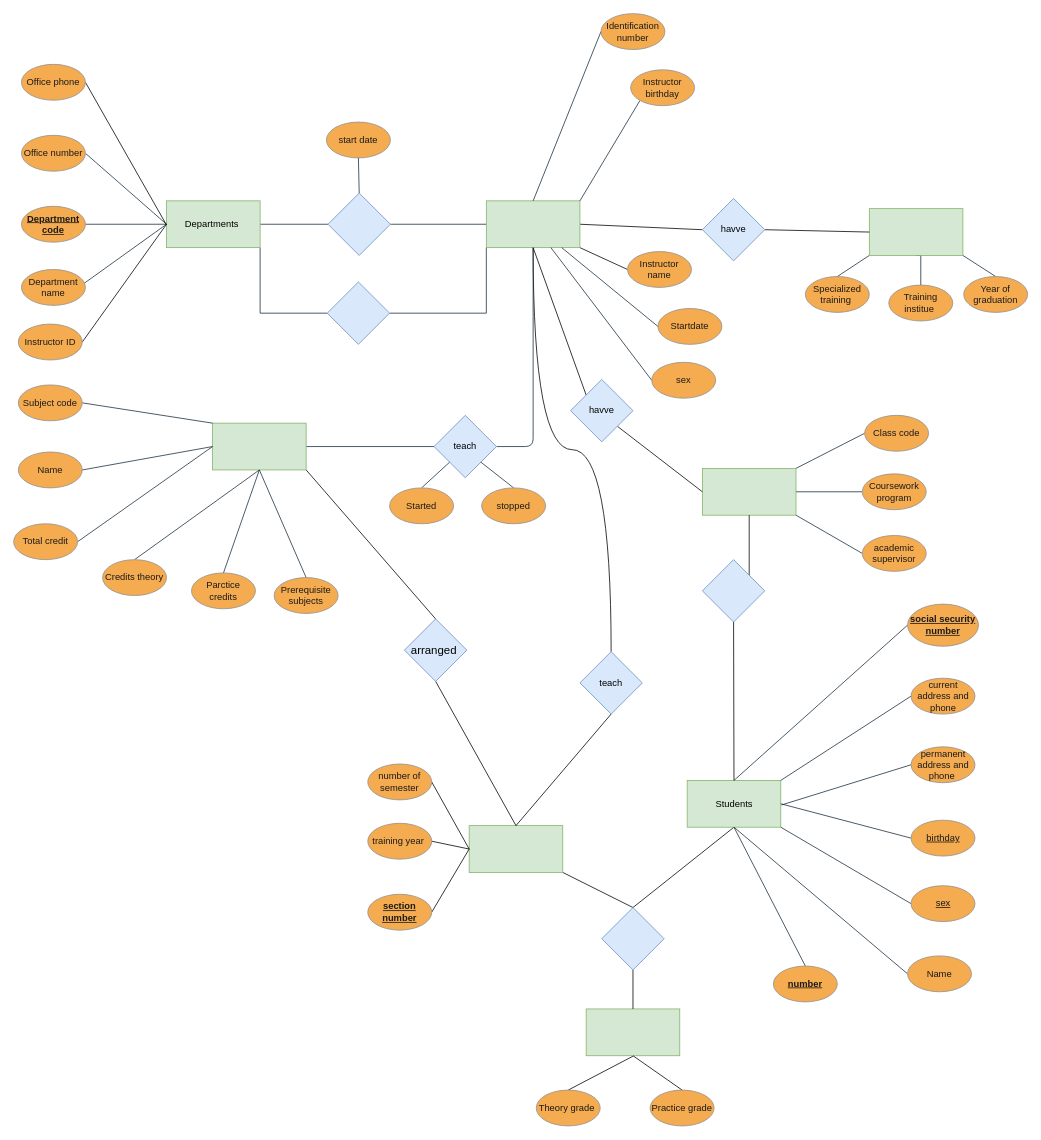
Some shapes in this 1041 by 1140 pixel diagram are drawn without their labels. The box of each missing label's shape, as (x1, y1, x2, y2) in pixels:
arranges: (326, 281, 390, 344)
assigned to: (702, 559, 765, 622)
Classes: (702, 468, 796, 515)
grade: (585, 1008, 680, 1056)
manages: (327, 192, 390, 255)
Particualr instructor: (486, 200, 580, 248)
Qualification: (869, 208, 963, 255)
record: (601, 907, 664, 970)
Scientific subject: (212, 422, 306, 470)
section: (468, 825, 563, 872)
